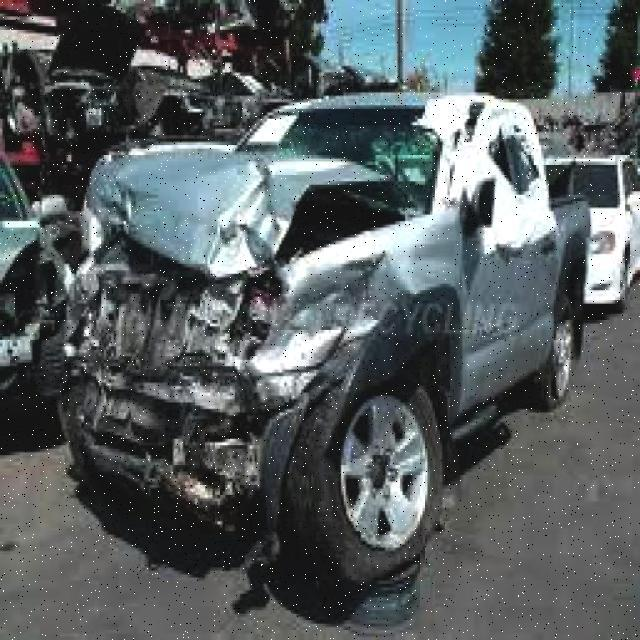car damage: (68, 149, 431, 546)
